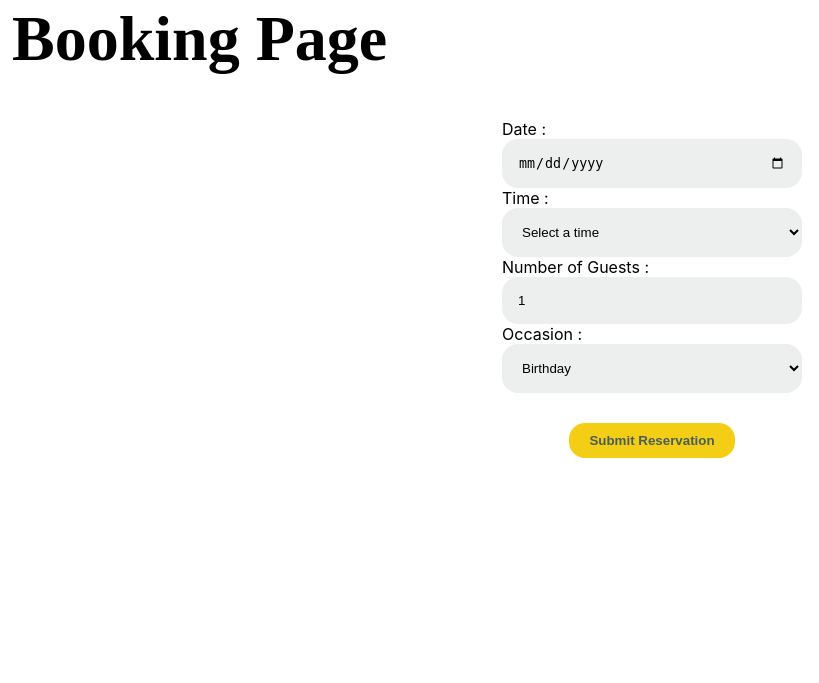
Test: should validate the form and handle submission with invalid inputs
The width and height of the screenshot is (819, 683).
Select "Select a time" in the dropdown labelled "Time :". click: [652, 233]
box: [502,208,802,257]
Clear the number field labelled "Number of Guests :". click: [652, 301]
box: [502,277,802,324]
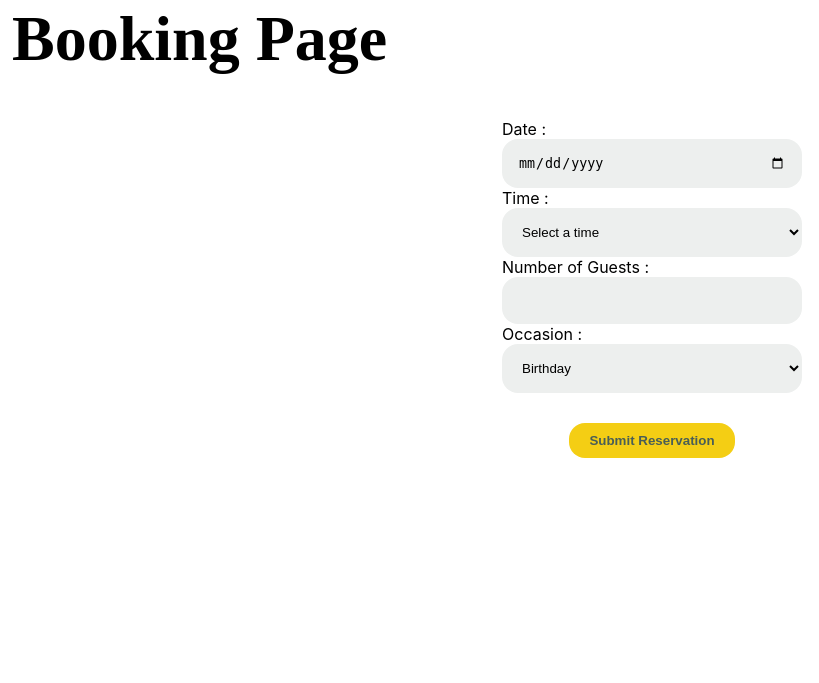
Select "" in the dropdown labelled "Occasion :". click: [652, 369]
box: [502,344,802,393]
Click the button "Submit Reservation". click: [652, 441]
box: [569,423,735,458]
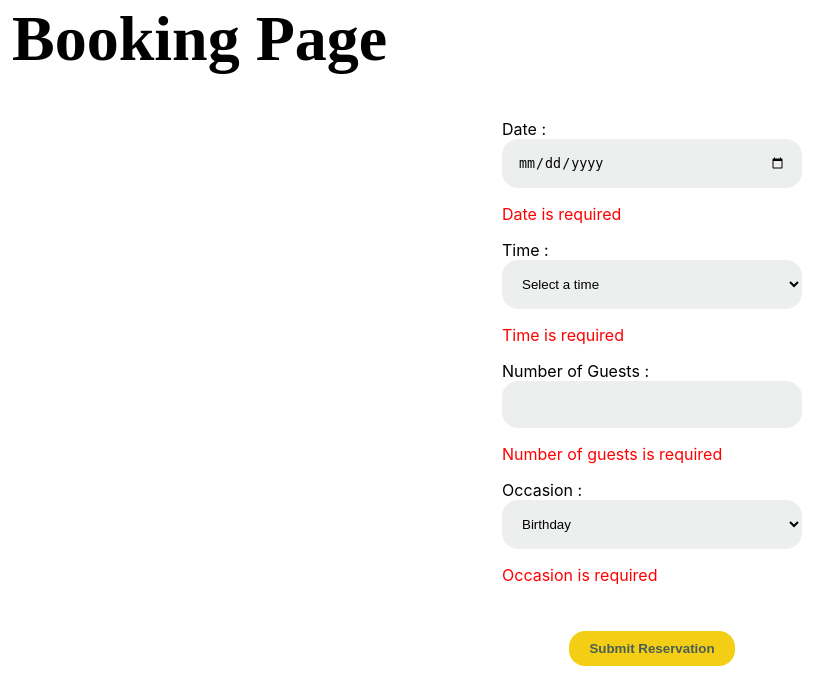
Expected: the text "Date is required" is shown, [502,204,621,224]
Expected: the text "Time is required" is shown, [502,325,624,345]
Expected: the text "Number of guests is required" is shown, [502,444,722,464]
